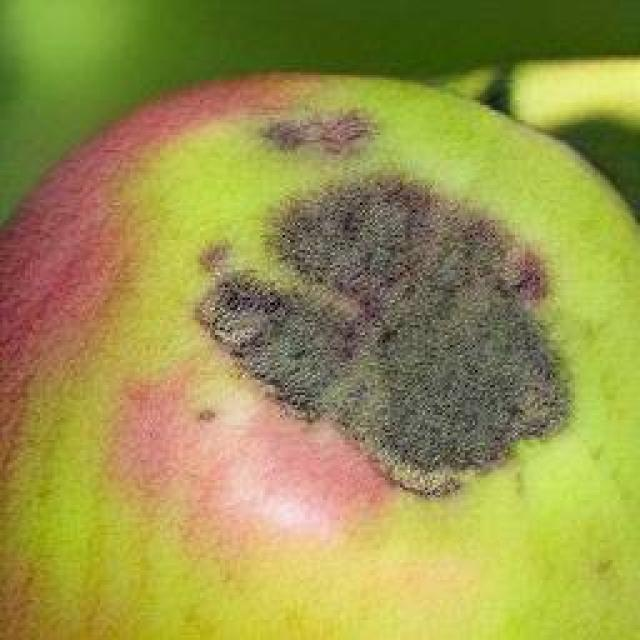defective: (0, 55, 638, 638)
